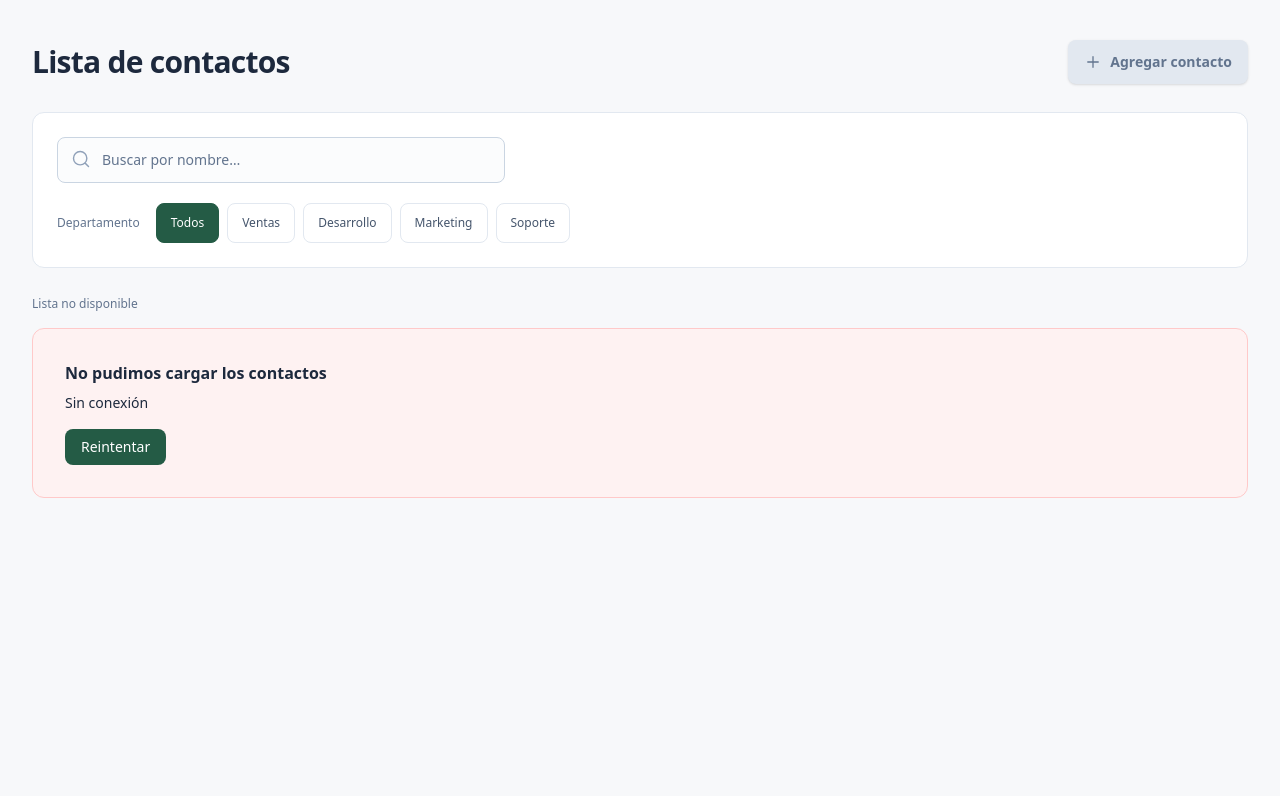
ofrece reintentar la carga y recupera el directorio
This screenshot has width=1280, height=796.
Click the button "Reintentar": (116, 447) [65,429,166,465]
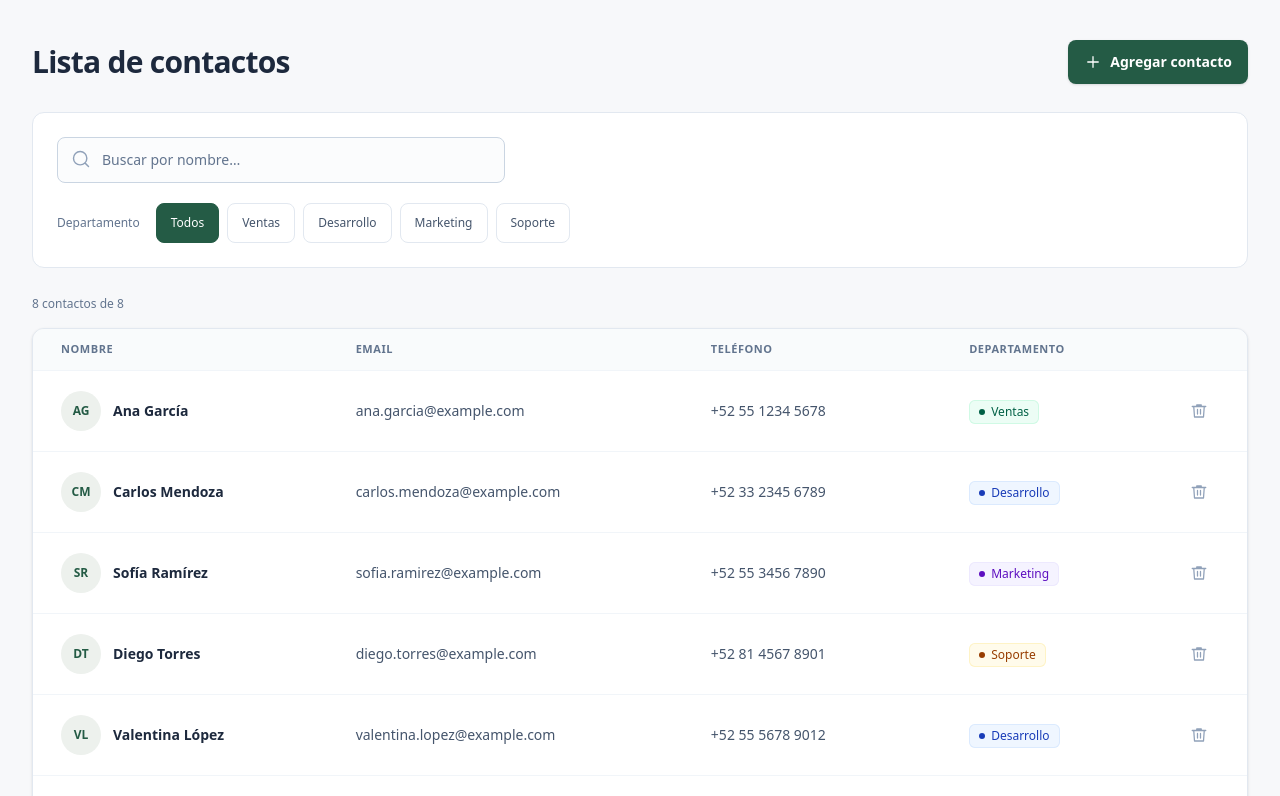
expect the text "Ana García" is shown: met, box [113,400,188,420]
expect the message "No pudimos cargar los contactos Sin conexión Reintentar" is gone: met
